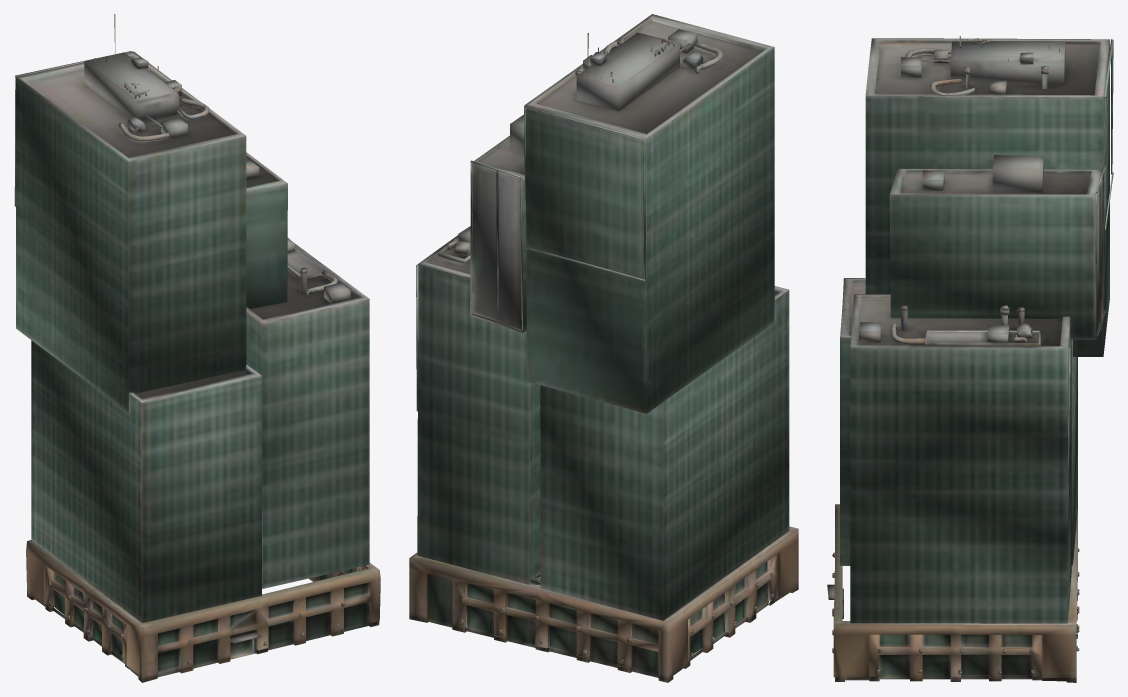
Rendered from city-setback-tower.glb.
The picture shows the model from 3 angles, left to right: view 1: azimuth 30°, elevation 25°; view 2: azimuth 150°, elevation 25°; view 3: azimuth 270°, elevation 25°; orthographic projection. The views are drawn at different scales.
Visible parts, largest first — view 1: Setback tower; view 2: Setback tower; view 3: Setback tower.
Part boxes in pixels (x1,y1,x2,y2): Setback tower: (14, 14, 380, 682); Setback tower: (409, 14, 798, 682); Setback tower: (827, 36, 1113, 682).
Size of the model in its own units: 0.4395 by 0.998 by 0.4395.
Materials: 1 (1 with a texture image).
